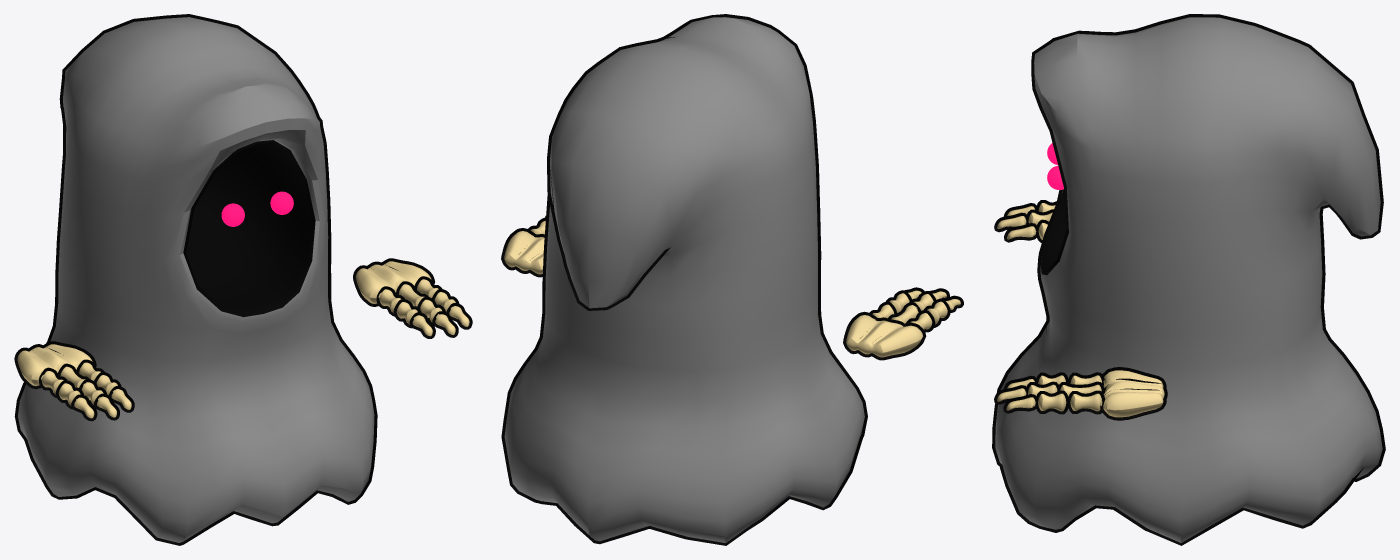
File: FantasmaOrdinario.fbx
3 views of the same model, side by side, from view 1: azimuth 30°, elevation 25°; view 2: azimuth 150°, elevation 25°; view 3: azimuth 270°, elevation 25° (orthographic). The views are drawn at different scales.
Parts seen in each view (by area): view 1: Cuerpo, Ojos; view 2: Cuerpo; view 3: Cuerpo.
Boxes of the visible parts, x1,y1,x2,y2 form: Cuerpo: [14, 14, 472, 545]; Ojos: [221, 191, 293, 226]; Cuerpo: [501, 14, 963, 545]; Cuerpo: [992, 14, 1385, 545].
Bounding box in the file's own units: 767 × 788 × 612.
